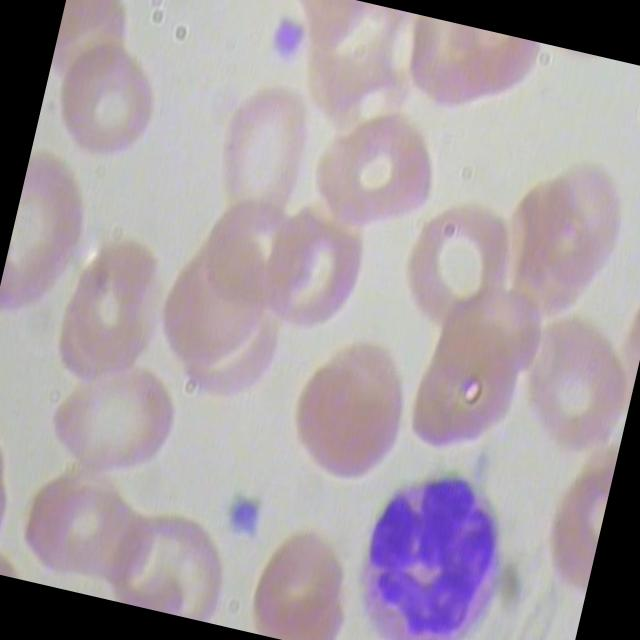Platelets: (260, 5, 312, 72), (218, 488, 266, 550)
RBC: (29, 210, 191, 407), (269, 323, 425, 498), (33, 342, 192, 498), (297, 88, 450, 247), (497, 295, 640, 465), (190, 69, 323, 242), (391, 186, 523, 350), (0, 141, 100, 328), (100, 500, 244, 626), (41, 30, 166, 174), (241, 520, 369, 640)
WBC: (326, 444, 525, 640)
